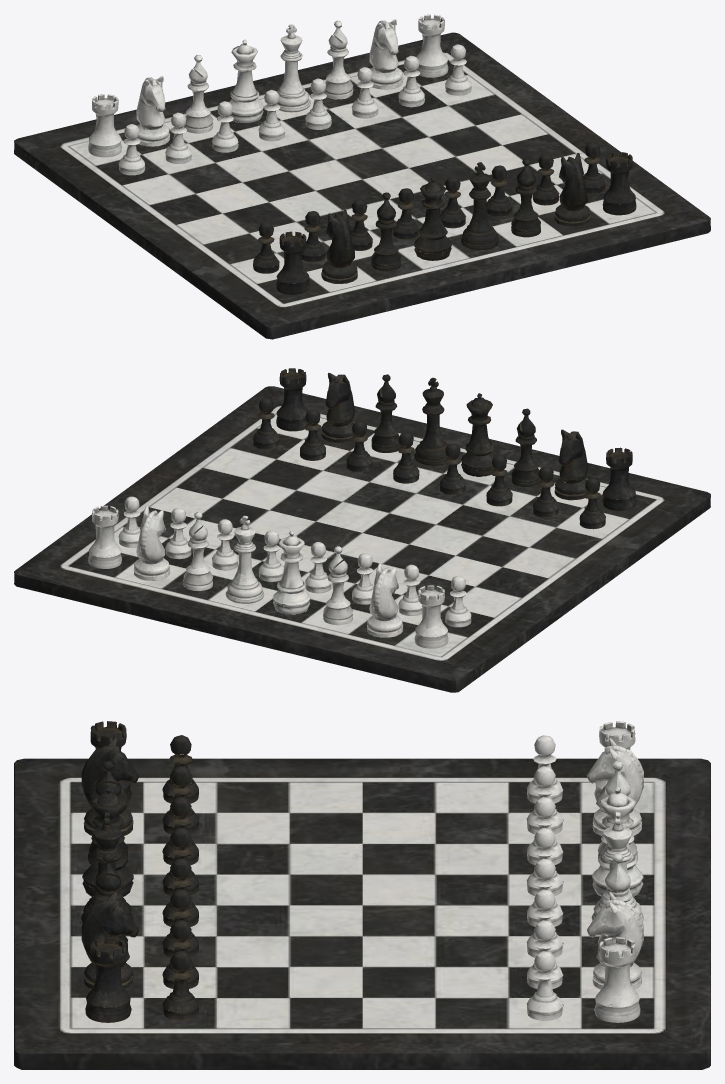
Rendered from chess.glb.
The picture shows the model from 3 angles, top to bottom: view 1: azimuth 30°, elevation 25°; view 2: azimuth 150°, elevation 25°; view 3: azimuth 270°, elevation 25°; orthographic projection. The views are drawn at different scales.
Parts seen in each view (by area): view 1: board, piece_queen_black, piece_knight_black_02, piece_knight_black_01, piece_queen_white, piece_knight_white_01, piece_knight_white_02, piece_king_black, piece_king_white, piece_rook_black_02, piece_rook_black_01, piece_rook_white_02 (+21 smaller); view 2: board, piece_queen_white, piece_knight_white_02, piece_knight_white_01, piece_queen_black, piece_knight_black_01, piece_knight_black_02, piece_king_white, piece_king_black, piece_rook_white_02, piece_rook_white_01, piece_rook_black_01 (+21 smaller); view 3: board, piece_rook_black_02, piece_rook_white_01, piece_knight_black_02, piece_knight_white_01, piece_knight_black_01, piece_knight_white_02, piece_queen_white, piece_queen_black, piece_pawn_black_08, piece_pawn_white_01, piece_king_black (+21 smaller).
Boxes of the visible parts, x1=… form: board: x1=14, y1=32, x2=710, y2=339; piece_queen_black: x1=414, y1=177, x2=451, y2=260; piece_knight_black_02: x1=554, y1=153, x2=590, y2=227; piece_knight_black_01: x1=321, y1=209, x2=357, y2=283; piece_queen_white: x1=228, y1=39, x2=263, y2=122; piece_knight_white_01: x1=369, y1=19, x2=403, y2=89; piece_knight_white_02: x1=136, y1=76, x2=169, y2=146; piece_king_black: x1=461, y1=162, x2=499, y2=250; piece_king_white: x1=276, y1=24, x2=310, y2=112; piece_rook_black_02: x1=602, y1=152, x2=636, y2=215; piece_rook_black_01: x1=276, y1=231, x2=309, y2=294; piece_rook_white_02: x1=88, y1=94, x2=121, y2=157; board: x1=14, y1=386, x2=710, y2=692; piece_queen_white: x1=272, y1=531, x2=310, y2=614; piece_knight_white_02: x1=367, y1=563, x2=403, y2=637; piece_knight_white_01: x1=133, y1=506, x2=169, y2=580; piece_queen_black: x1=461, y1=393, x2=495, y2=476; piece_knight_black_01: x1=554, y1=429, x2=588, y2=500; piece_knight_black_02: x1=321, y1=372, x2=355, y2=443; piece_king_white: x1=225, y1=515, x2=264, y2=603; piece_king_black: x1=414, y1=377, x2=447, y2=465; piece_rook_white_02: x1=414, y1=585, x2=448, y2=648; piece_rook_white_01: x1=88, y1=505, x2=121, y2=568; piece_rook_black_01: x1=602, y1=447, x2=636, y2=510; board: x1=14, y1=758, x2=710, y2=1069; piece_rook_black_02: x1=85, y1=937, x2=131, y2=1022; piece_rook_white_01: x1=594, y1=937, x2=640, y2=1022; piece_knight_black_02: x1=81, y1=891, x2=138, y2=989; piece_knight_white_01: x1=587, y1=892, x2=643, y2=989; piece_knight_black_01: x1=81, y1=737, x2=138, y2=835; piece_knight_white_02: x1=587, y1=738, x2=643, y2=835; piece_queen_white: x1=592, y1=786, x2=643, y2=896; piece_queen_black: x1=82, y1=786, x2=133, y2=896; piece_pawn_black_08: x1=162, y1=951, x2=198, y2=1020; piece_pawn_white_01: x1=527, y1=951, x2=563, y2=1020; piece_king_black: x1=81, y1=812, x2=133, y2=922.
Size of the model in its own units: 0.5532 by 0.1121 by 0.5532.
Materials: 3 (3 with a texture image).
